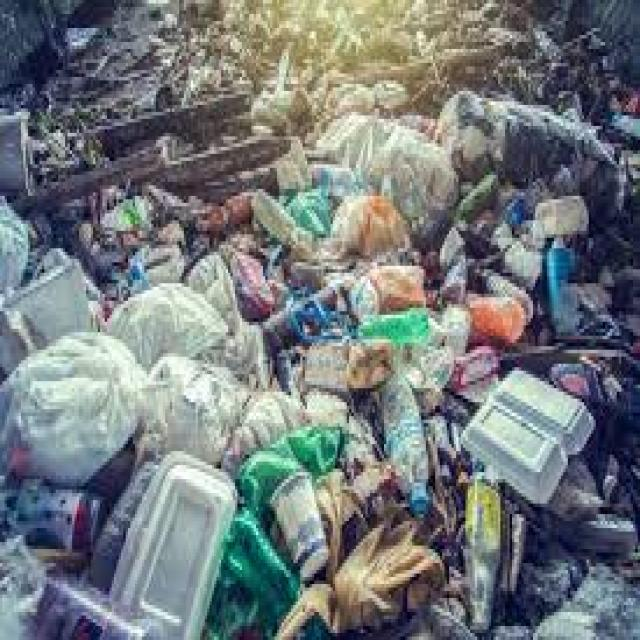plastic: (92, 431, 238, 640)
plastic_bottle: (311, 351, 511, 553)
